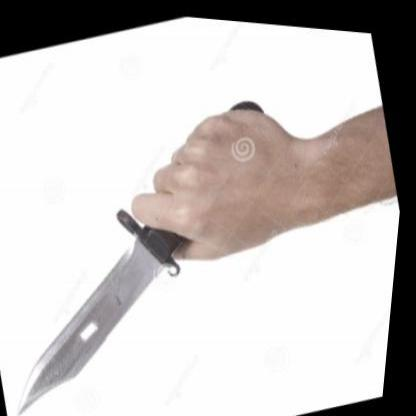knife: (0, 110, 288, 414)
